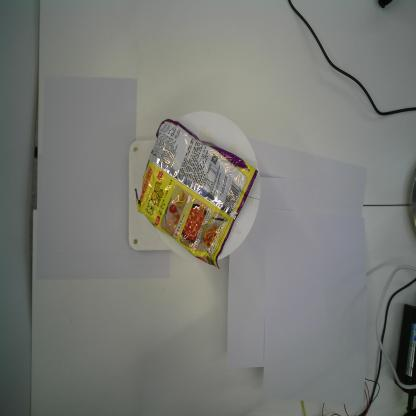Instant Noodles: (134, 118, 258, 270)
